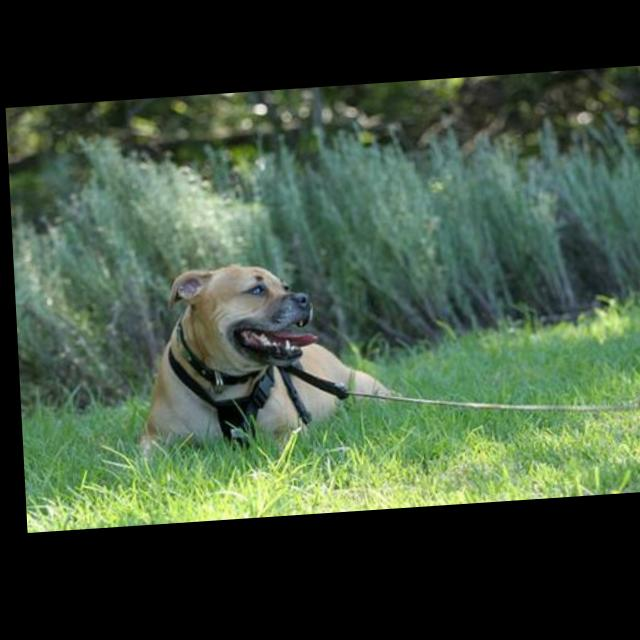staffford: (127, 258, 394, 462)
